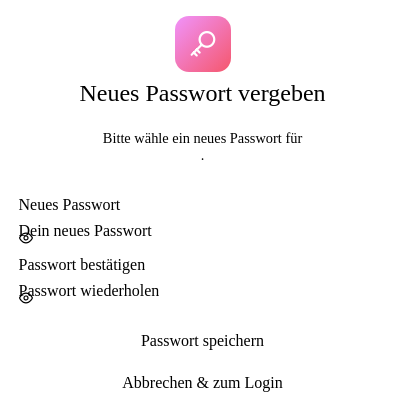
it: ResetPasswordView.vue › should successfully execute password reset
Type "SicheresPasswort123" into the password field labelled "Neues Passwort" at (202, 231), box [18, 222, 386, 240]
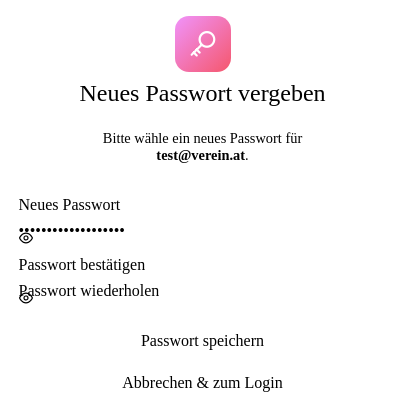
Type "SicheresPasswort123" into the password field labelled "Passwort bestätigen" at (202, 291), box [18, 282, 386, 300]
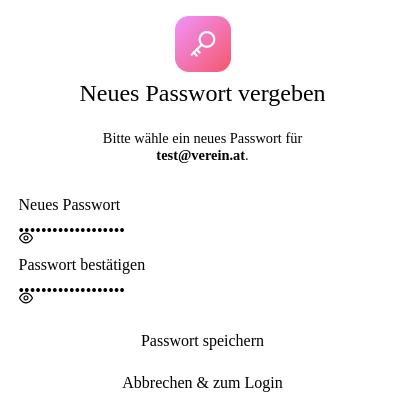
Submit the form
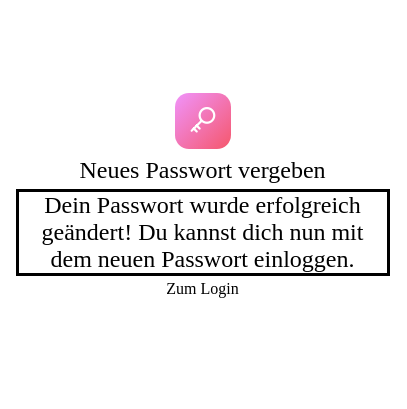
Now the text "Dein Passwort wurde erfolgreich geändert" is shown, box [42, 192, 363, 272]
